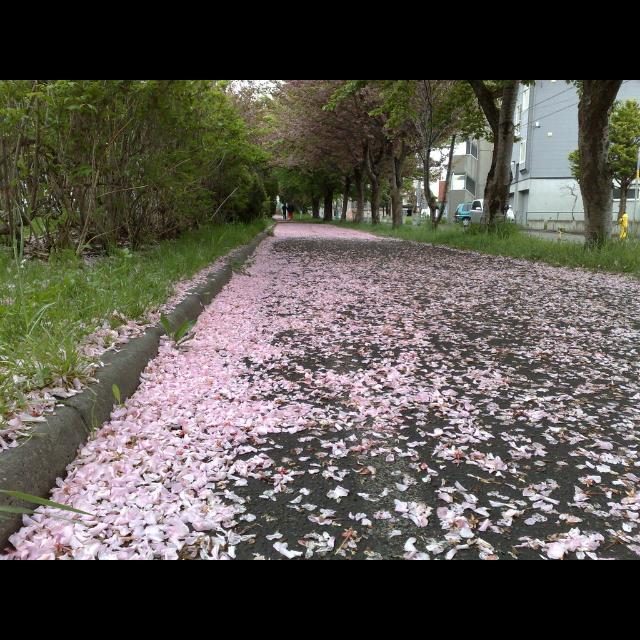Flower: (258, 80, 487, 168)
